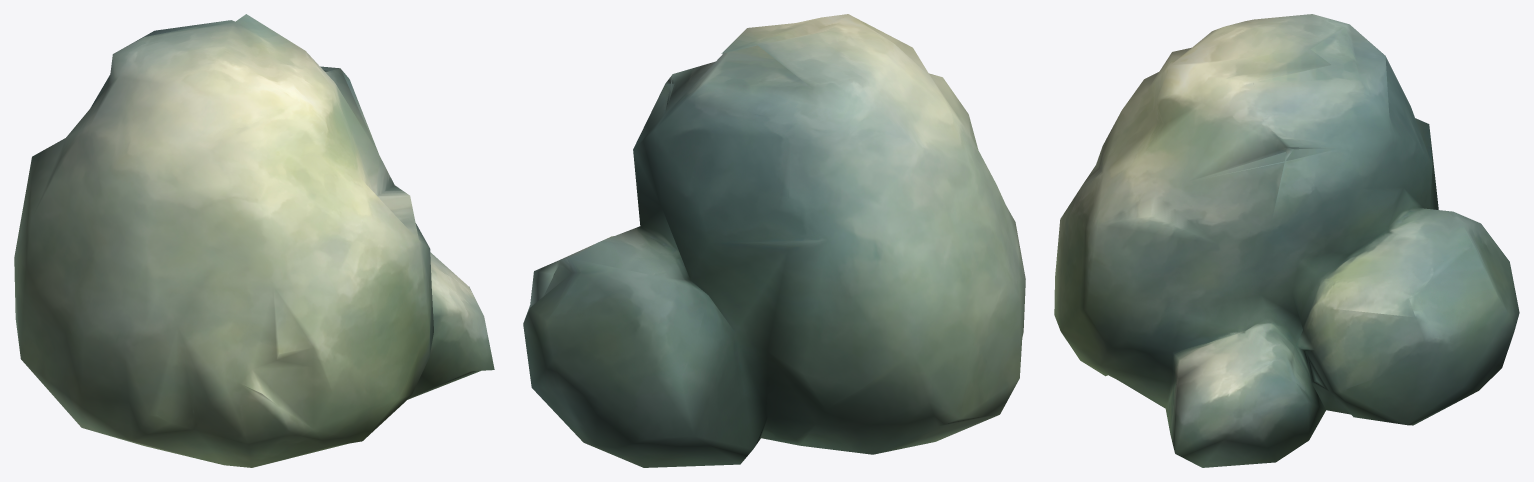
The model's file is model_raw.glb.
3 renders of one model, left to right at view 1: azimuth 30°, elevation 25°; view 2: azimuth 150°, elevation 25°; view 3: azimuth 270°, elevation 25°, orthographic. The views are drawn at different scales.
Visible parts, largest first — view 1: tripo_node_a4ee37cc-4232-4223-8fce-ca924154caa1; view 2: tripo_node_a4ee37cc-4232-4223-8fce-ca924154caa1; view 3: tripo_node_a4ee37cc-4232-4223-8fce-ca924154caa1.
Boxes of the visible parts, box(x1,y1,x2,y2) form: tripo_node_a4ee37cc-4232-4223-8fce-ca924154caa1: box(14, 14, 494, 467); tripo_node_a4ee37cc-4232-4223-8fce-ca924154caa1: box(523, 14, 1025, 467); tripo_node_a4ee37cc-4232-4223-8fce-ca924154caa1: box(1054, 14, 1519, 467).
Size of the model in its own units: 0.9562 by 0.7958 by 1.
Materials: 1 (1 with a texture image).
